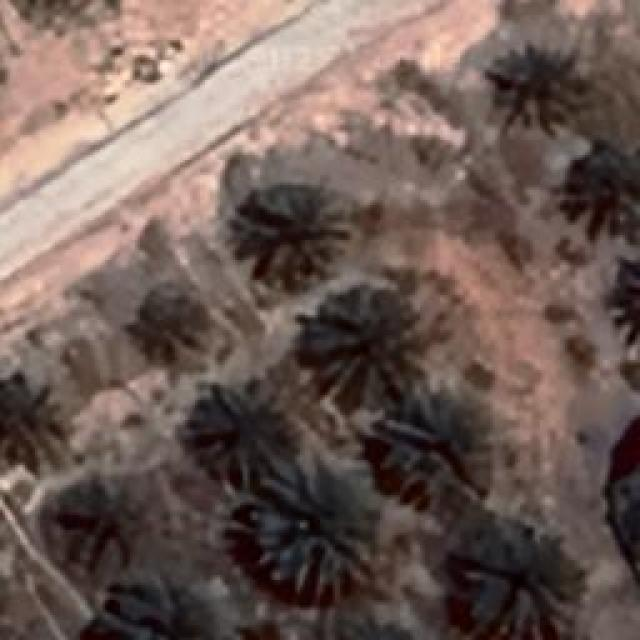PalmTree: (28, 109, 626, 301), (73, 87, 604, 186), (250, 455, 380, 600), (298, 288, 430, 412), (380, 382, 500, 510), (460, 540, 578, 635), (235, 188, 348, 282), (475, 42, 580, 130), (195, 384, 288, 476), (54, 477, 144, 565), (96, 582, 232, 640), (132, 288, 215, 368), (0, 365, 62, 472), (318, 614, 447, 640), (613, 444, 640, 564), (324, 621, 446, 640), (621, 452, 640, 561), (621, 246, 640, 350)
